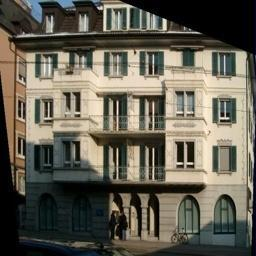building: (22, 0, 246, 236)
